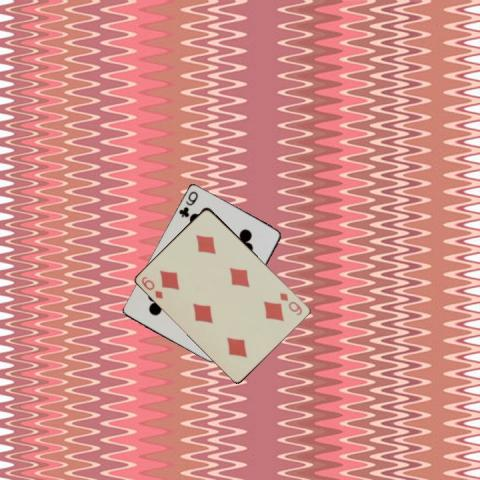6d: (277, 289, 304, 317), (138, 273, 164, 301)
9c: (176, 189, 199, 219)
